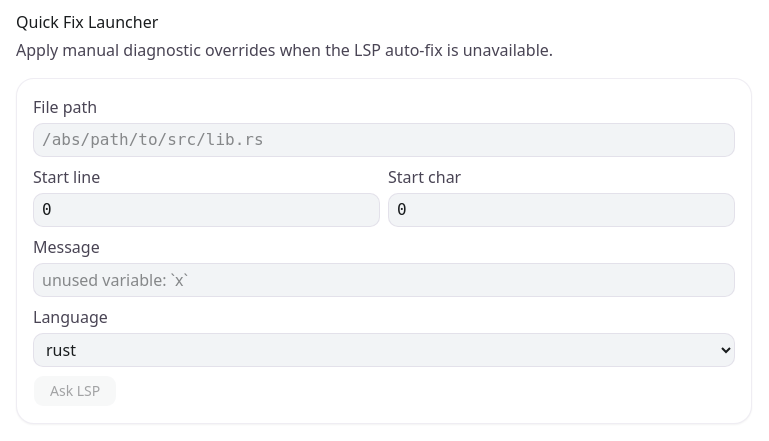
it: QuickFix — controlled inputs › updates the start_character number input (and coerces NaN to 0)
Replace the text in the number field labelled "Start char" with "7" at (562,210), box [388,193,735,227]
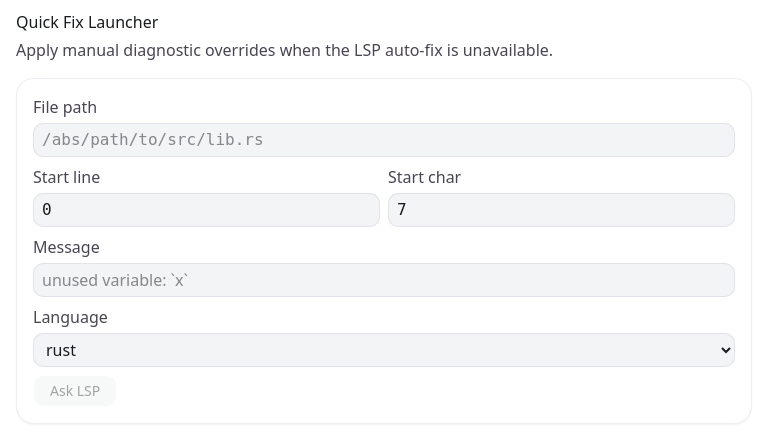
Clear the number field labelled "Start char" at (562,210), box [388,193,735,227]
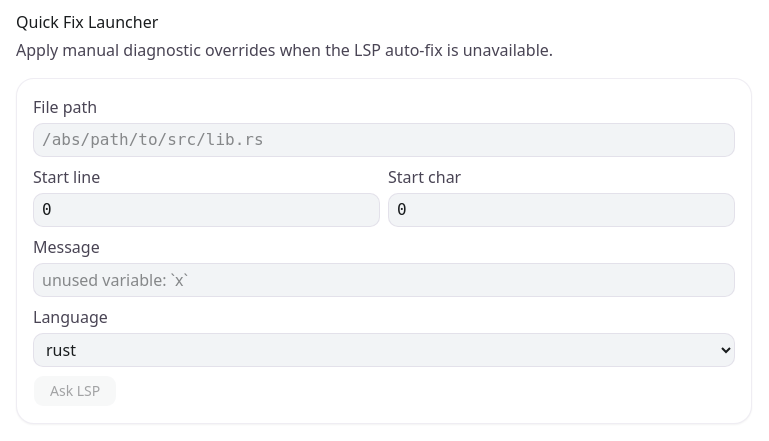
Check: the number field labelled "Start char" holds "0", box [388,193,735,227]
